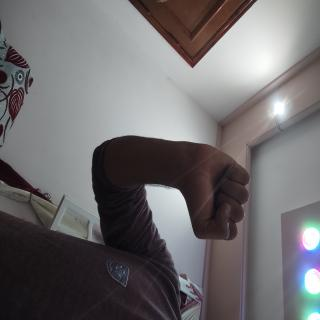SAD: (101, 86, 189, 191)
